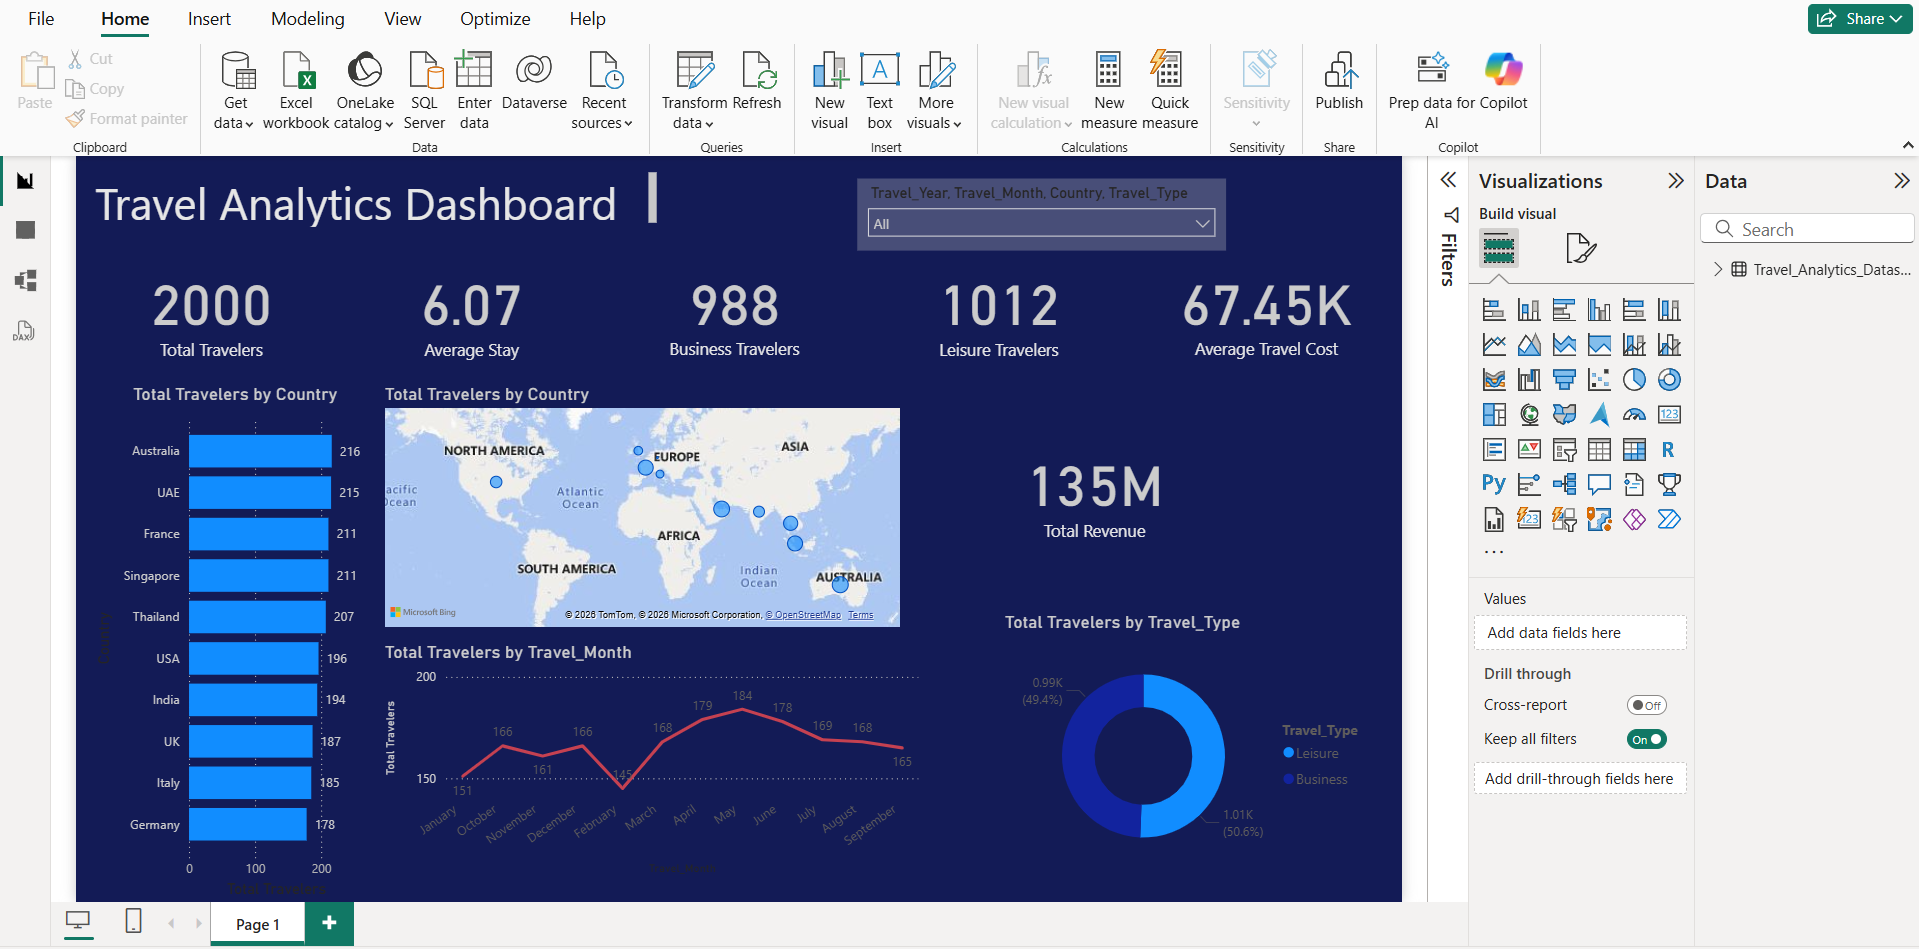

The page's visual inventory and layout, read from the dashboard file:
{"tool":"powerbi","page":{"name":"Page 1","canvas":[1280,720],"ordinal":0},"visuals":[{"type":"card","title":"Total Travelers","fields":{"Values":["Travel_Analytics_Dataset_2000 (2).Total Travelers"]},"box":[13.3,91.7,235.3,113.4],"z":0},{"type":"card","title":"Total Revenue","fields":{"Values":["Travel_Analytics_Dataset_2000 (2).Total Revenue"]},"box":[878.3,220.8,209.9,203.9],"z":1000},{"type":"card","fields":{"Values":["Travel_Analytics_Dataset_2000 (2).Average Stay"]},"box":[264.2,91.7,235.3,113.4],"z":2000},{"type":"card","fields":{"Values":["Travel_Analytics_Dataset_2000 (2).Business Travelers"]},"box":[517.6,91.7,236.5,112.2],"z":3000},{"type":"card","fields":{"Values":["Travel_Analytics_Dataset_2000 (2).Leisure Travelers"]},"box":[772.1,91.7,237.7,113.4],"z":4000},{"type":"card","fields":{"Values":["Travel_Analytics_Dataset_2000 (2).Average Travel Cost"]},"box":[1031.5,91.7,235.3,112.2],"z":5000},{"type":"clusteredBarChart","fields":{"Y":["Travel_Analytics_Dataset_2000 (2).Total Travelers"],"Category":["Travel_Analytics_Dataset_2000 (2).Country"]},"box":[14.1,220.1,278.6,500.7],"z":6000},{"type":"lineChart","fields":{"Y":["Travel_Analytics_Dataset_2000 (2).Total Travelers"],"Category":["Travel_Analytics_Dataset_2000 (2).Travel_Month"]},"box":[292.7,468.4,524.9,230.2],"z":7000},{"type":"donutChart","fields":{"Category":["Travel_Analytics_Dataset_2000 (2).Travel_Type"],"Y":["Travel_Analytics_Dataset_2000 (2).Total Travelers"]},"box":[891.6,439.1,366.8,259.4],"z":8000},{"type":"map","fields":{"Category":["Travel_Analytics_Dataset_2000 (2).Country"],"Size":["Travel_Analytics_Dataset_2000 (2).Total Travelers"]},"box":[292.7,220.1,506.8,240.3],"z":9000},{"type":"slicer","fields":{"Values":["Travel_Analytics_Dataset_2000 (2).Travel_Year","Travel_Analytics_Dataset_2000 (2).Travel_Month","Travel_Analytics_Dataset_2000 (2).Country","Travel_Analytics_Dataset_2000 (2).Travel_Type"]},"box":[754,21.7,355.9,70],"z":10000},{"type":"textbox","box":[13.3,10.9,597.2,62.7],"z":11000}]}

Visuals, with their boxes on the page's 1280x720 design canvas (x1, y1, x2, y2). These are canvas units, not pixel positions in the 1919x949 screenshot, which may show the page scaled, cropped or inside an application window:
"Total Travelers" card: 13/92/249/205
"Total Revenue" card: 878/221/1088/425
card - Travel_Analytics_Dataset_2000 (2).Average Stay: 264/92/500/205
card - Travel_Analytics_Dataset_2000 (2).Business Travelers: 518/92/754/204
card - Travel_Analytics_Dataset_2000 (2).Leisure Travelers: 772/92/1010/205
card - Travel_Analytics_Dataset_2000 (2).Average Travel Cost: 1032/92/1267/204
clusteredBarChart - Travel_Analytics_Dataset_2000 (2).Total Travelers x Travel_Analytics_Dataset_2000 (2).Country: 14/220/293/721
lineChart - Travel_Analytics_Dataset_2000 (2).Total Travelers x Travel_Analytics_Dataset_2000 (2).Travel_Month: 293/468/818/699
donutChart - Travel_Analytics_Dataset_2000 (2).Travel_Type x Travel_Analytics_Dataset_2000 (2).Total Travelers: 892/439/1258/698
map - Travel_Analytics_Dataset_2000 (2).Country x Travel_Analytics_Dataset_2000 (2).Total Travelers: 293/220/800/460
slicer - Travel_Analytics_Dataset_2000 (2).Travel_Year x Travel_Analytics_Dataset_2000 (2).Travel_Month: 754/22/1110/92
textbox: 13/11/610/74
